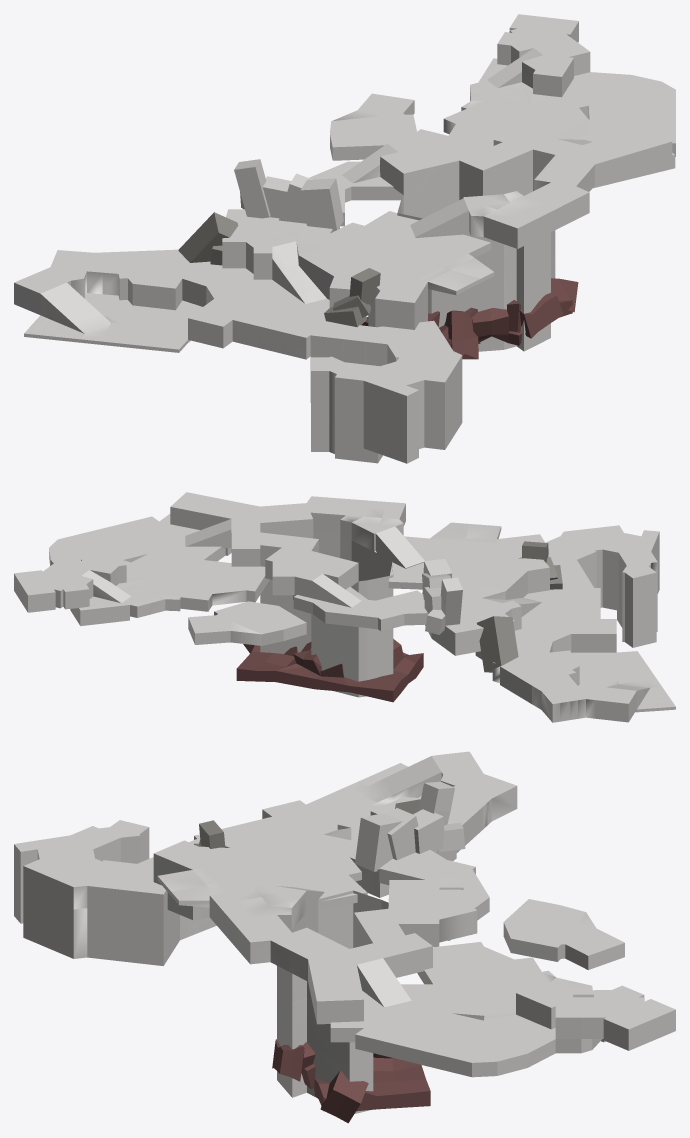
File: Canyon_Floors.fbx
3 renders of one model, top to bottom at view 1: azimuth 30°, elevation 25°; view 2: azimuth 150°, elevation 25°; view 3: azimuth 270°, elevation 25°, orthographic. The views are drawn at different scales.
Parts seen in each view (by area): view 1: canyon_lvl1, canyon_lvl2_far, canyon_lvl2, canyon_lvl3, Bulky coliderless, Rubble_Gen2, Rubble_Wallesque; view 2: canyon_lvl2_far, canyon_lvl1, canyon_lvl3, canyon_lvl2, Bulky coliderless, Rubble_Gen2, Rubble_Wallesque; view 3: canyon_lvl2_far, canyon_lvl1, canyon_lvl3, canyon_lvl2, Bulky coliderless, Rubble_Gen2, Rubble_Wallesque.
Boxes of the visible parts, x1,y1,x2,y2 form: canyon_lvl1: (14,249,462,463); canyon_lvl2_far: (309,14,675,226); canyon_lvl2: (178,209,494,329); canyon_lvl3: (342,126,672,248); Bulky coliderless: (397,171,555,351); Rubble_Gen2: (361,278,578,359); Rubble_Wallesque: (234,159,343,230); canyon_lvl2_far: (14,514,427,645); canyon_lvl1: (475,525,675,722); canyon_lvl3: (170,492,424,607); canyon_lvl2: (388,522,562,672); Bulky coliderless: (260,530,393,697); Rubble_Gen2: (236,639,423,702); Rubble_Wallesque: (422,559,462,634); canyon_lvl2_far: (330,850,675,1077); canyon_lvl1: (14,751,517,965); canyon_lvl3: (209,880,477,1024); canyon_lvl2: (153,799,456,920); Bulky coliderless: (277,890,388,1113); Rubble_Gen2: (272,1039,430,1123); Rubble_Wallesque: (355,781,465,871).
Bounding box in the file's own units: 5314 × 4185 × 1393.
